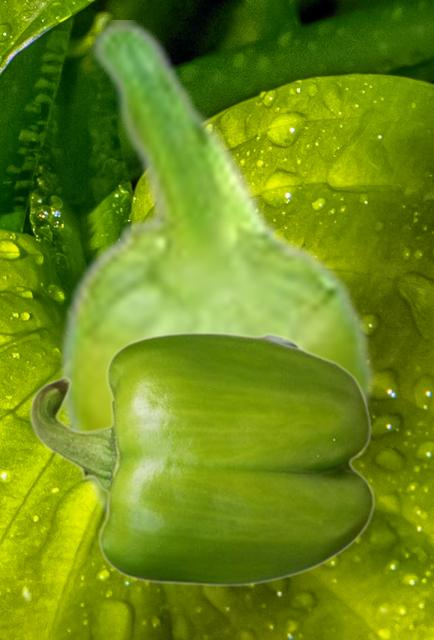bell_pepper: (56, 20, 376, 524), (29, 331, 374, 586)
